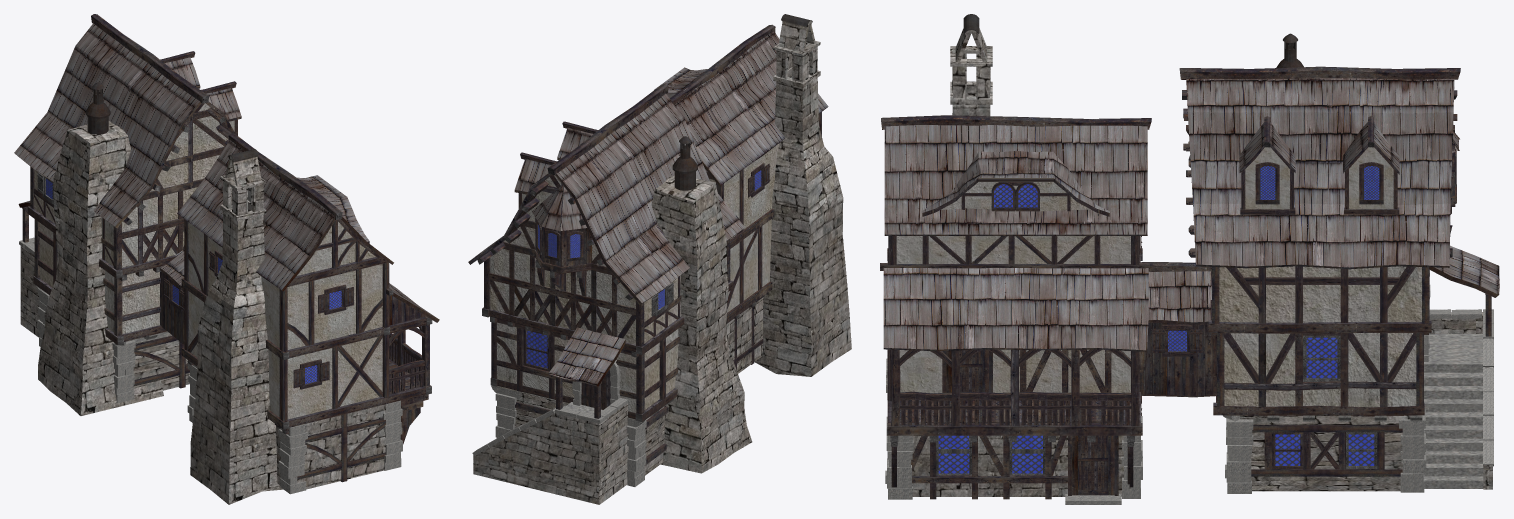
The model's file is casa_medieval_01.glb.
3 renders of one model, left to right at view 1: azimuth 30°, elevation 25°; view 2: azimuth 150°, elevation 25°; view 3: azimuth 270°, elevation 25°, orthographic. The views are drawn at different scales.
Visible parts, largest first — view 1: BalconyWood; view 2: BalconyWood; view 3: BalconyWood.
Boxes of the visible parts, <box> form: BalconyWood: <box>14,14,439,504</box>; BalconyWood: <box>468,14,851,504</box>; BalconyWood: <box>880,14,1499,504</box>.
Size of the model in its own units: 8.54 by 12.27 by 16.5.
13 materials, 13 textured.
